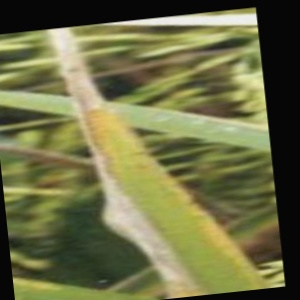Leaf_Blast: (107, 124, 221, 299)
